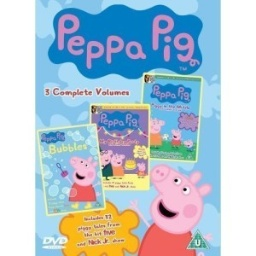Peppa: (128, 164, 214, 256), (68, 157, 98, 208)
